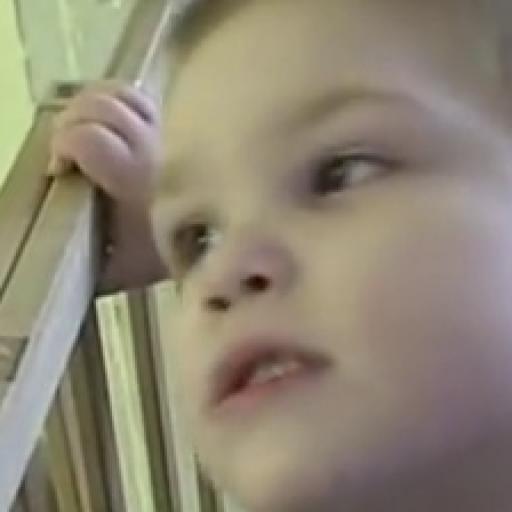Autism: (150, 8, 512, 512)
